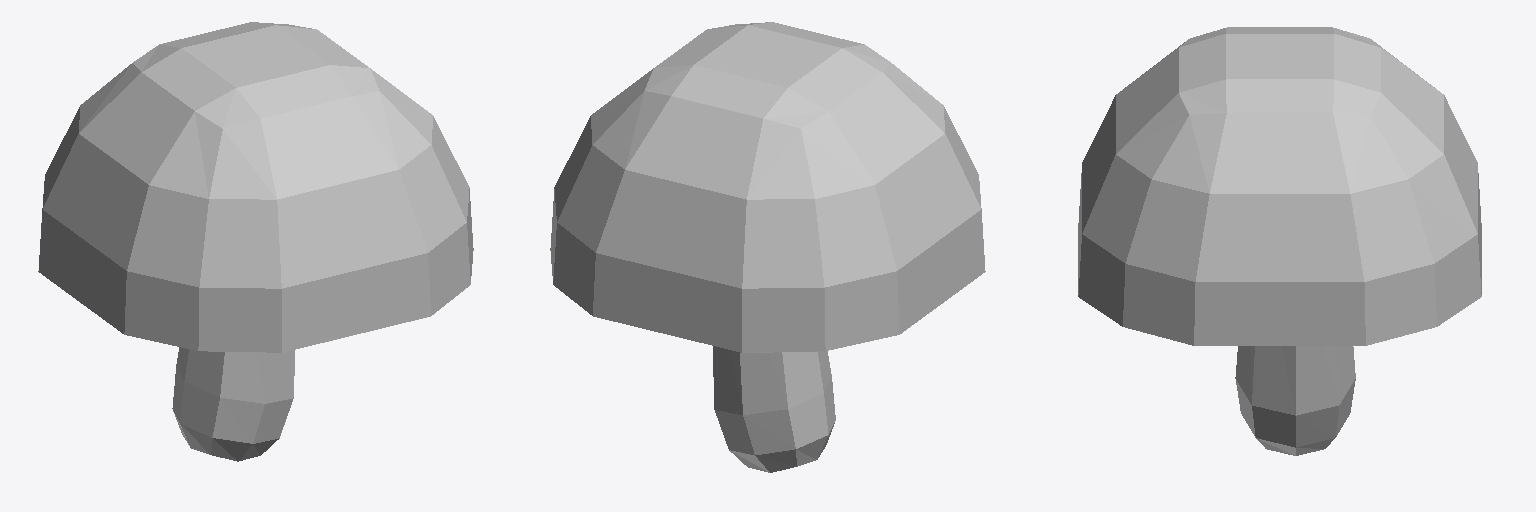
The model's file is food_ingredient_mushroom.obj.
3 views of the same model, side by side, from view 1: azimuth 30°, elevation 25°; view 2: azimuth 150°, elevation 25°; view 3: azimuth 270°, elevation 25° (orthographic).
Parts seen in each view (by area): view 1: food_ingredient_mushroom_Cube.18456; view 2: food_ingredient_mushroom_Cube.18456; view 3: food_ingredient_mushroom_Cube.18456.
Boxes of the visible parts, x1,y1,x2,y2 form: food_ingredient_mushroom_Cube.18456: [38, 22, 473, 461]; food_ingredient_mushroom_Cube.18456: [550, 22, 985, 472]; food_ingredient_mushroom_Cube.18456: [1078, 27, 1481, 455].
Size of the model in its own units: 0.5227 by 0.5707 by 0.5227.